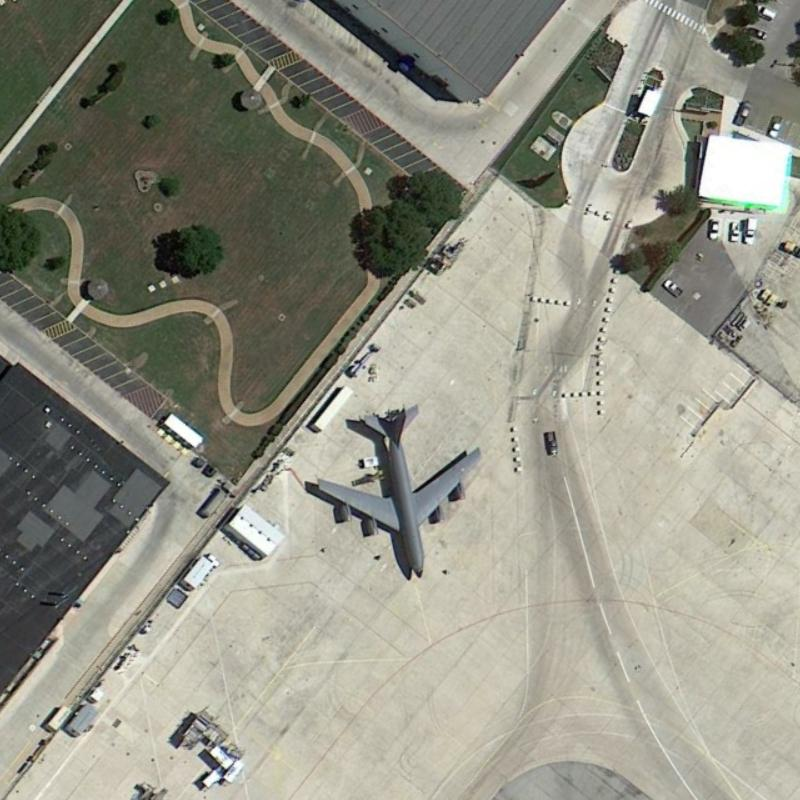A14: (306, 399, 491, 586)
